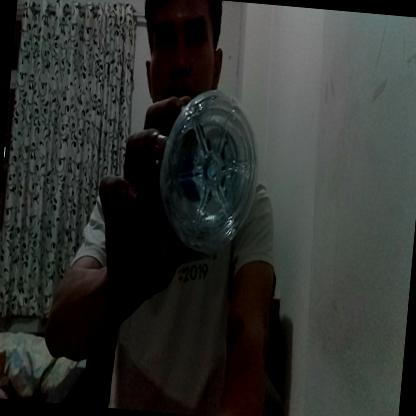plastic_bottles: (151, 81, 265, 262)
